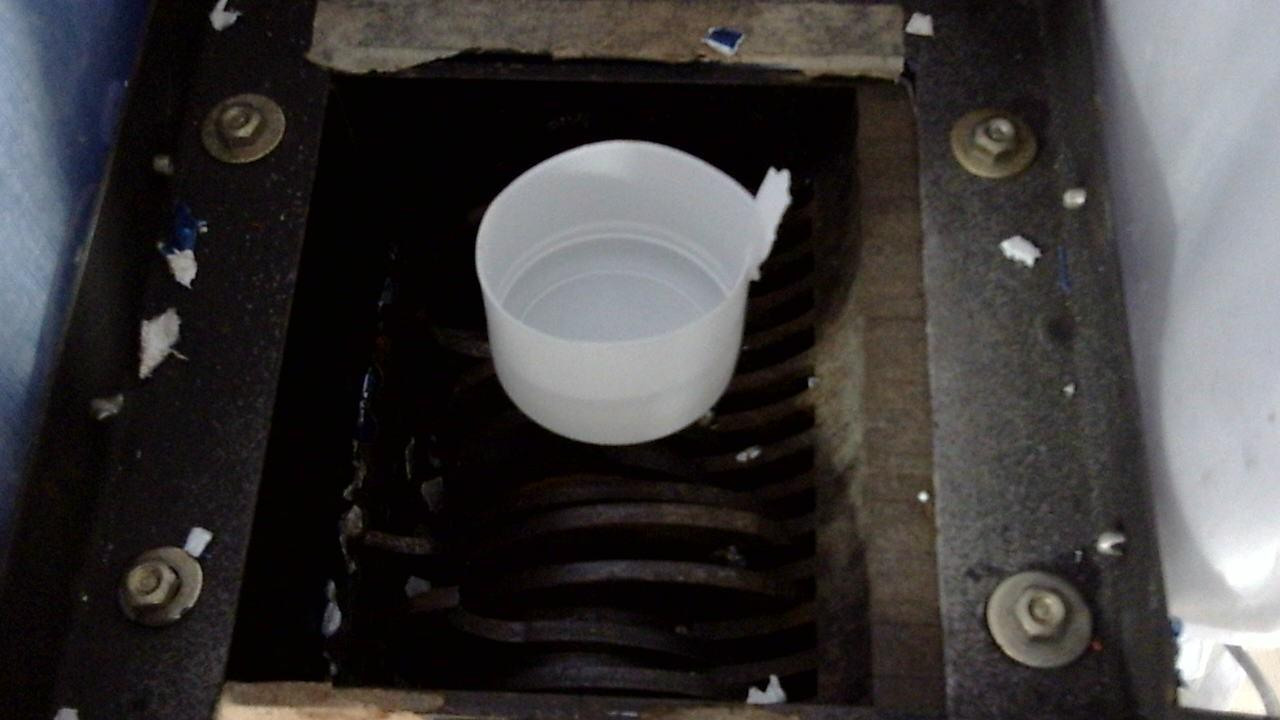Plastik: (457, 93, 802, 475)
